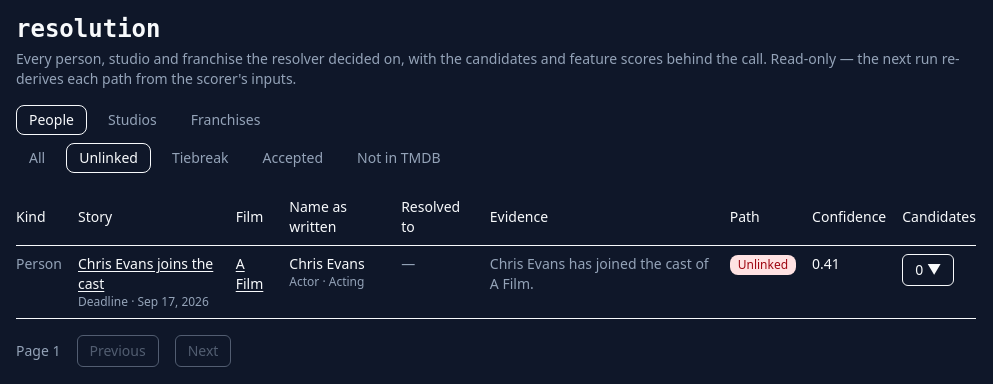
Test: AdminResolution › narrows the request to one path when a filter tab is picked
The image size is (993, 384).
Expected: the text "Chris Evans" is shown, [289,254,365,273]
Expected: the text "Greta Gerwig" is not shown
Click the tab "Accepted" at coordinates (293, 158), box [250,143,336,173]
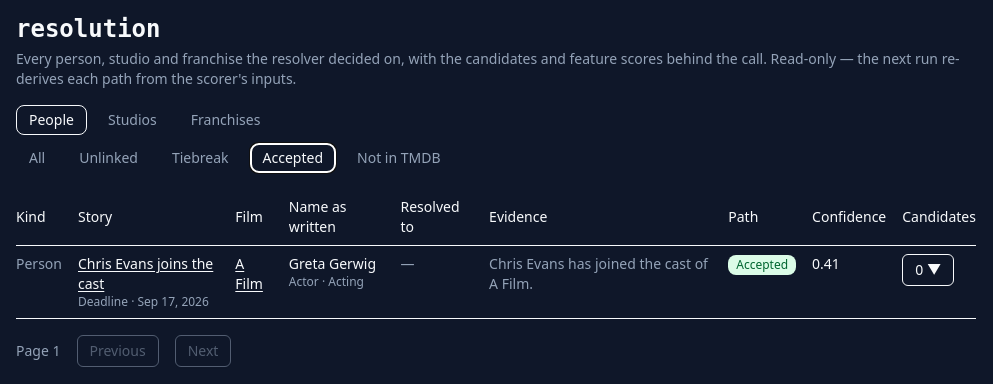
Now the text "Greta Gerwig" is shown, box [289,254,384,274]
